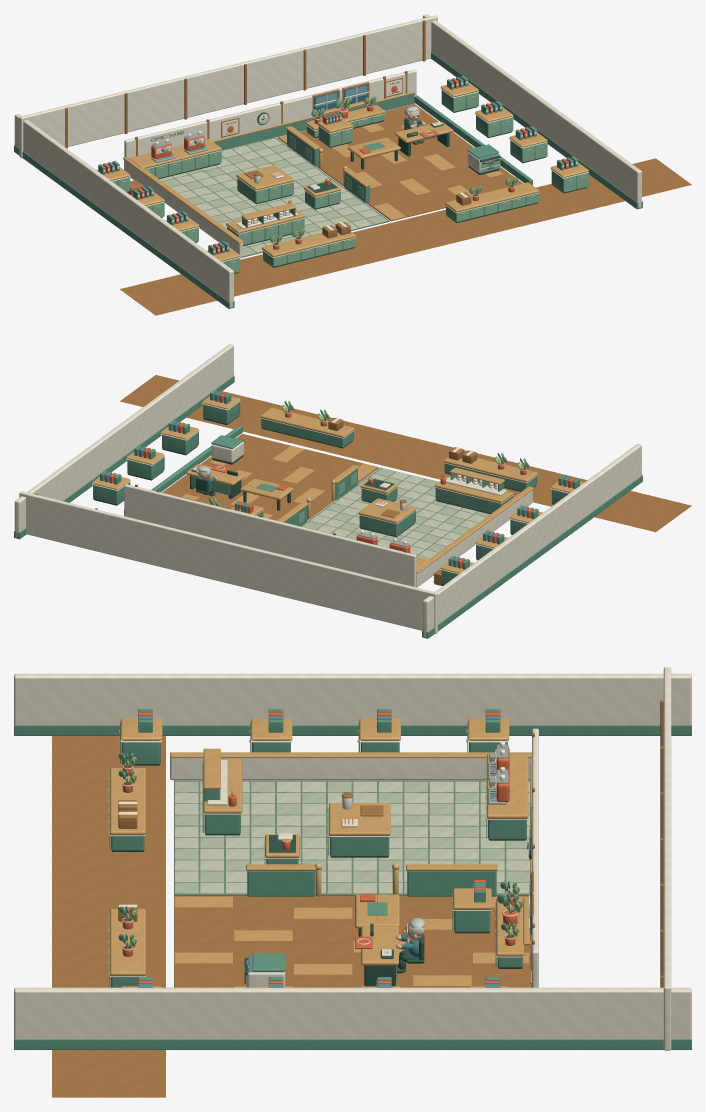
File: environment.glb
The picture shows the model from 3 angles, top to bottom: view 1: azimuth 30°, elevation 25°; view 2: azimuth 150°, elevation 25°; view 3: azimuth 270°, elevation 25°; orthographic projection. The views are drawn at different scales.
Visible parts, largest first — view 1: Warm ivory enamel, Honey oak, Oak surface, Sage cabinet enamel, Sage inset panels, Cream tile, Alternating cream tile, Tile grout, Forest edging, Terracotta enamel, Paper, Leaf (+1 smaller); view 2: Warm ivory enamel, Honey oak, Sage cabinet enamel, Oak surface, Cream tile, Alternating cream tile, Tile grout, Forest edging, Terracotta enamel, Monitor glass; view 3: Warm ivory enamel, Honey oak, Sage cabinet enamel, Oak surface, Cream tile, Alternating cream tile, Tile grout, Terracotta enamel, Forest edging, Sage inset panels, Leaf, Brushed brass (+2 smaller).
Boxes of the visible parts, box(x1,y1,x2,y2) form: Warm ivory enamel: box(14, 14, 641, 307); Honey oak: box(65, 20, 691, 315); Oak surface: box(96, 82, 588, 261); Sage cabinet enamel: box(14, 52, 642, 308); Sage inset panels: box(112, 92, 588, 272); Cream tile: box(159, 138, 379, 252); Alternating cream tile: box(163, 142, 387, 255); Tile grout: box(162, 137, 389, 257); Forest edging: box(126, 82, 587, 273); Terracotta enamel: box(103, 78, 568, 254); Paper: box(103, 79, 577, 252); Leaf: box(270, 96, 517, 243); Warm ivory enamel: box(14, 344, 641, 637); Honey oak: box(35, 375, 691, 586); Sage cabinet enamel: box(14, 375, 642, 638); Oak surface: box(92, 396, 583, 582); Cream tile: box(310, 471, 486, 559); Alternating cream tile: box(302, 468, 489, 552); Tile grout: box(300, 467, 486, 558); Forest edging: box(93, 416, 554, 585); Terracotta enamel: box(109, 392, 575, 568); Monitor glass: box(104, 391, 570, 567); Warm ivory enamel: box(14, 667, 691, 1050); Honey oak: box(52, 700, 663, 1097); Sage cabinet enamel: box(14, 709, 691, 1049); Oak surface: box(110, 718, 531, 987); Cream tile: box(175, 781, 529, 893); Alternating cream tile: box(175, 781, 529, 893); Tile grout: box(174, 780, 529, 895); Terracotta enamel: box(122, 712, 530, 984); Forest edging: box(112, 763, 531, 986); Sage inset panels: box(109, 722, 496, 987); Leaf: box(118, 752, 519, 947); Brushed brass: box(108, 729, 495, 975).
Size of what is drawn, in the model's own units: 36 by 3.01 by 25.
25 materials, 13 textured.
